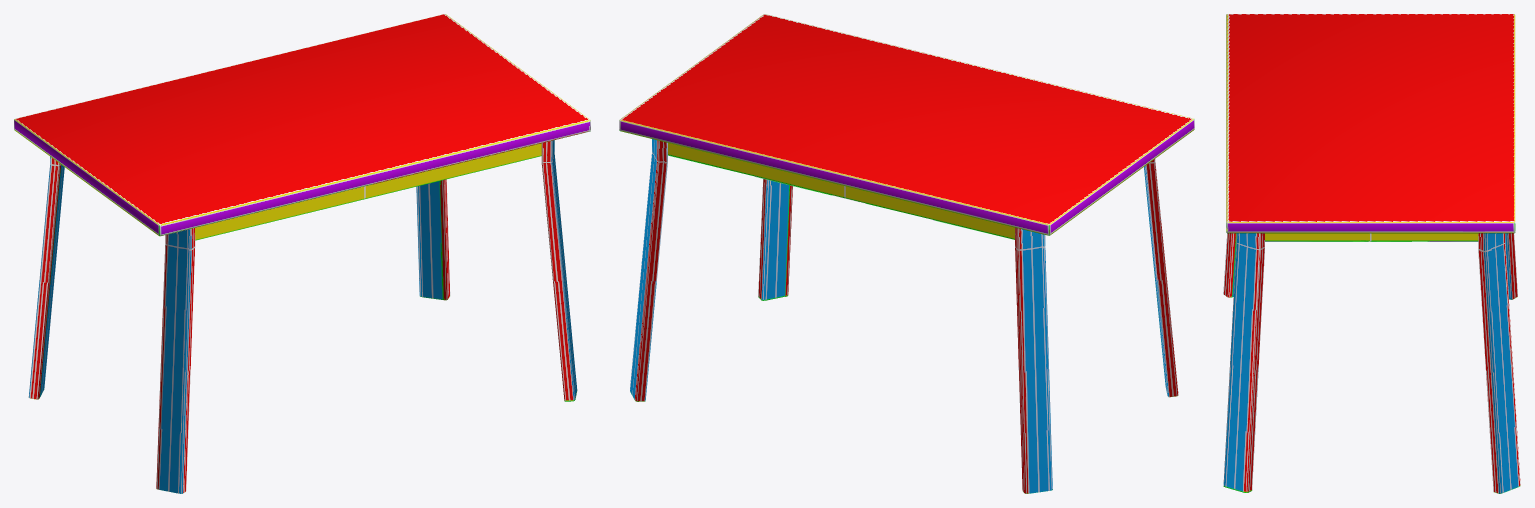
The model's file is Table1.fbx.
3 renders of one model, left to right at view 1: azimuth 30°, elevation 25°; view 2: azimuth 150°, elevation 25°; view 3: azimuth 270°, elevation 25°, orthographic.
Parts seen in each view (by area): view 1: Table; view 2: Table; view 3: Table.
Part boxes in pixels (x1=…): Table: x1=14, y1=14, x2=590, y2=493; Table: x1=619, y1=14, x2=1194, y2=493; Table: x1=1223, y1=14, x2=1520, y2=493.
Bounding box in the file's own units: 39.6 × 24.22 × 23.81.
Materials: 1 (1 with a texture image).
